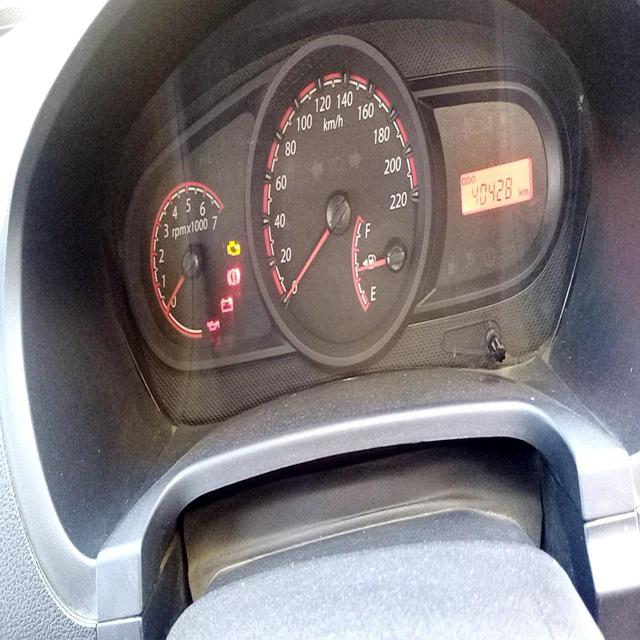odometer: (468, 173, 521, 213)
